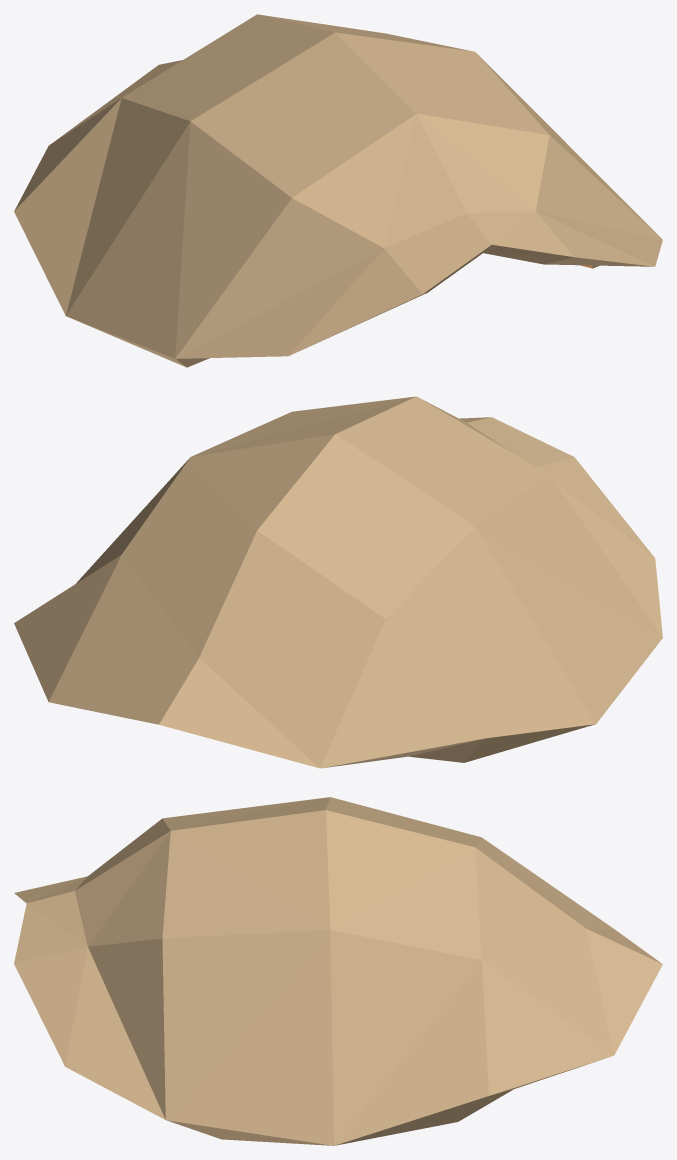
File: Underwater_Temple_Turtle_Shell_01.fbx
3 views of the same model, one above another, from view 1: azimuth 30°, elevation 25°; view 2: azimuth 150°, elevation 25°; view 3: azimuth 270°, elevation 25° (orthographic). The views are drawn at different scales.
Parts seen in each view (by area): view 1: Underwater_Temple_Turtle_Shell_01; view 2: Underwater_Temple_Turtle_Shell_01; view 3: Underwater_Temple_Turtle_Shell_01.
Part boxes in pixels (x1,y1,x2,y2): Underwater_Temple_Turtle_Shell_01: (14, 14, 662, 367); Underwater_Temple_Turtle_Shell_01: (14, 396, 662, 768); Underwater_Temple_Turtle_Shell_01: (14, 797, 662, 1145).
Bounding box in the file's own units: 3.11 × 1.38 × 3.45.
